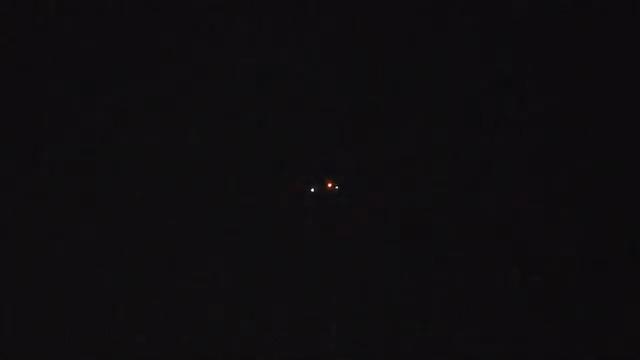Plane: (294, 171, 361, 201)
